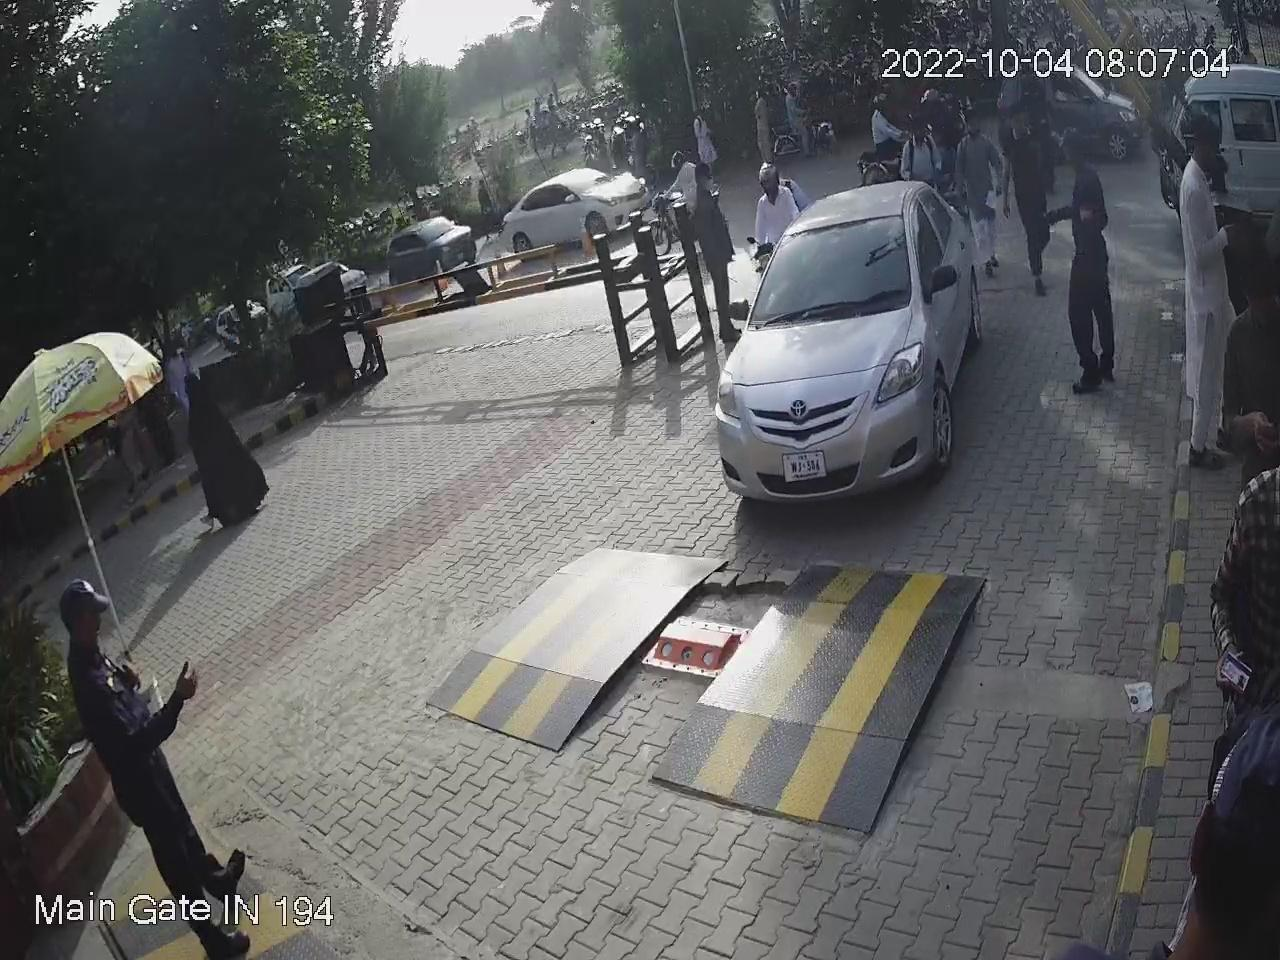windshield: (743, 210, 915, 323)
